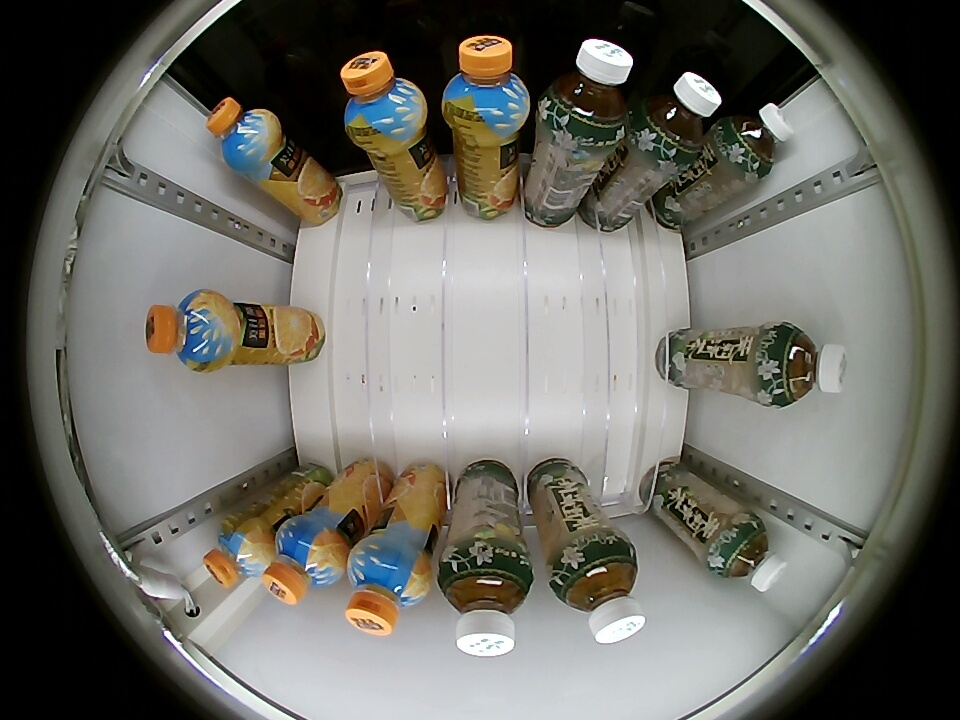guolicheng: (441, 34, 531, 136), (341, 51, 429, 148), (345, 540, 431, 637), (145, 289, 236, 373), (264, 519, 347, 605), (205, 96, 282, 175), (203, 512, 275, 589)
moliqingcha: (438, 550, 535, 657), (539, 38, 635, 146), (551, 540, 646, 645), (632, 71, 722, 162), (761, 322, 849, 407), (711, 513, 787, 592), (718, 101, 794, 178)
